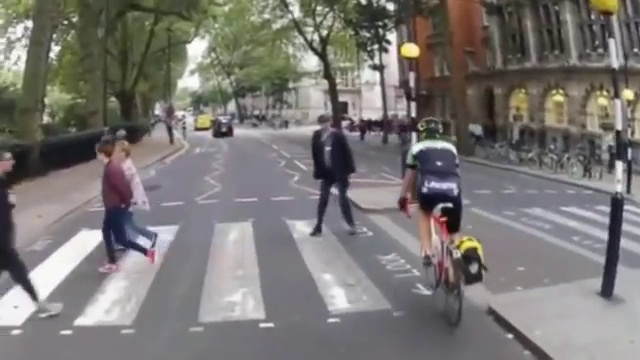cyclist_back: (400, 112, 488, 328)
